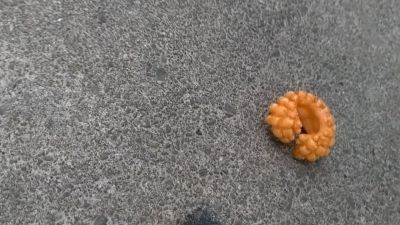eggs: (265, 89, 337, 163)
